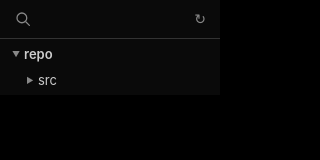
Test: refreshes collapsed folders when reopened and stops polling on unmount
Click the text "src" at [48, 80], box [38,69,57,91]
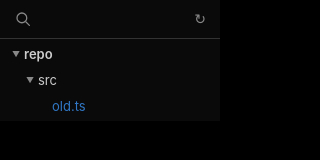
Click the text "src" at [48, 80], box [38,69,57,91]
Wait 2000 ms
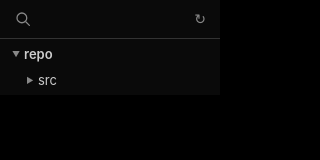
Click the text "src" at [48, 80], box [38,69,57,91]
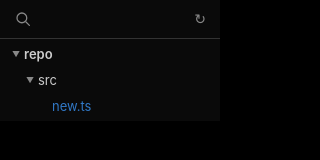
Result: the text "new.ts" is shown at [52,95,92,117]
